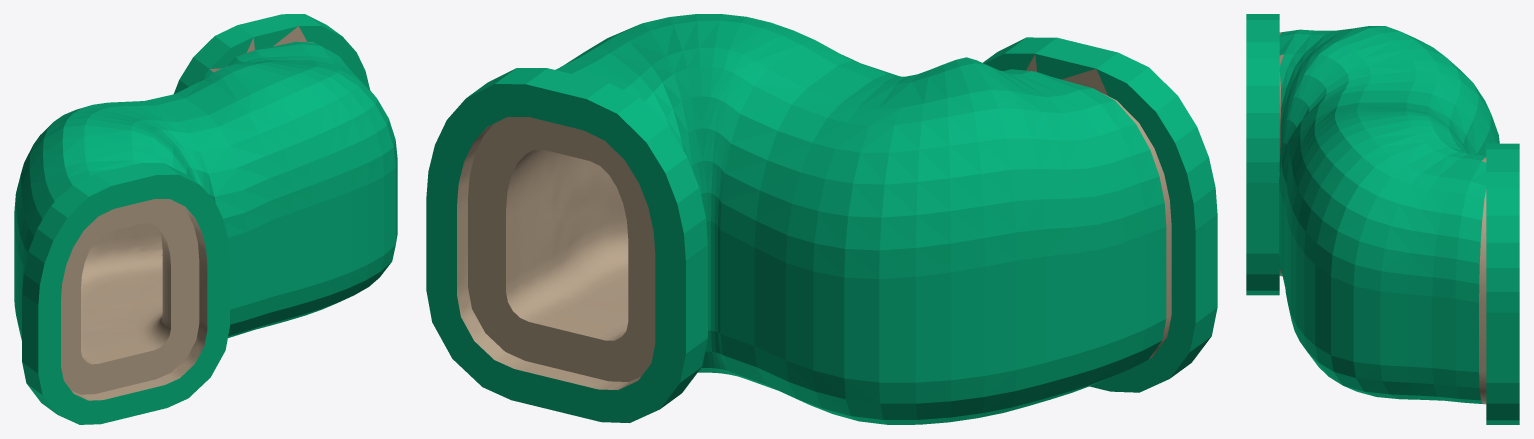
The model's file is TT_Dogleg_R.fbx.
3 renders of one model, left to right at view 1: azimuth 30°, elevation 25°; view 2: azimuth 150°, elevation 25°; view 3: azimuth 270°, elevation 25°, orthographic. The views are drawn at different scales.
Parts seen in each view (by area): view 1: TT_Dogleg_R_LOD0; view 2: TT_Dogleg_R_LOD0; view 3: TT_Dogleg_R_LOD0.
Part boxes in pixels (x1,y1,x2,y2): TT_Dogleg_R_LOD0: [14, 14, 397, 424]; TT_Dogleg_R_LOD0: [426, 14, 1217, 424]; TT_Dogleg_R_LOD0: [1246, 14, 1519, 424].
Bounding box in the file's own units: 800 × 415 × 410.
